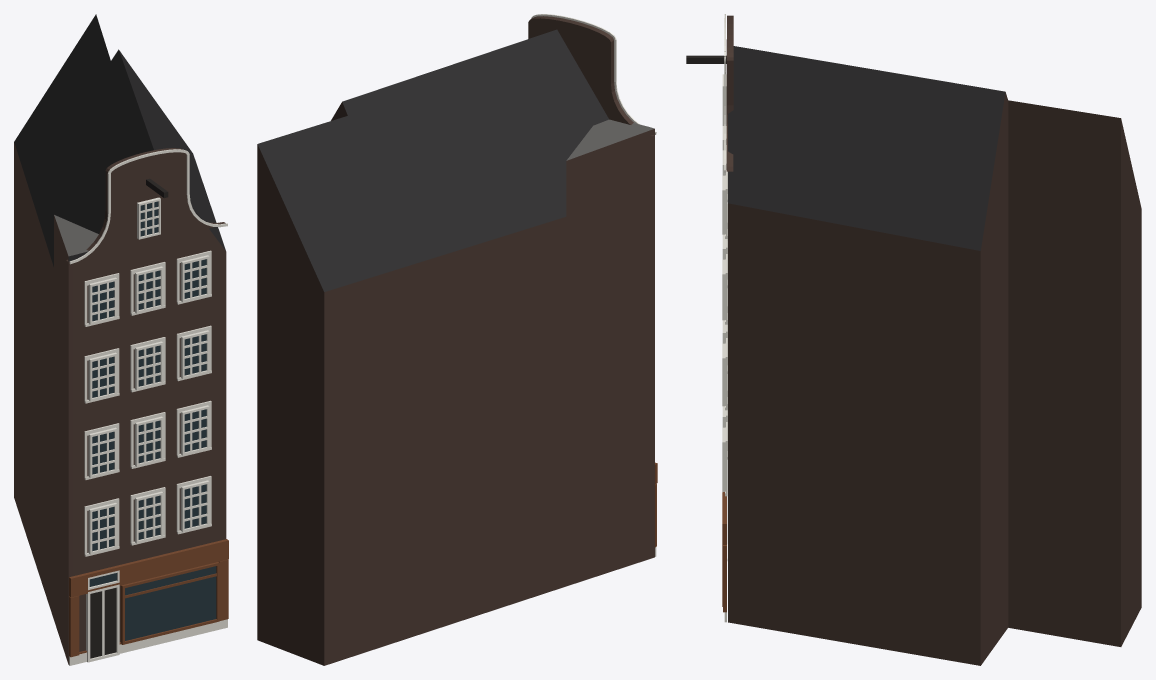
3 renders of one model, left to right at view 1: azimuth 30°, elevation 25°; view 2: azimuth 150°, elevation 25°; view 3: azimuth 270°, elevation 25°, orthographic. The views are drawn at different scales.
Parts seen in each view (by area): view 1: spec-0363100012177935; view 2: spec-0363100012177935; view 3: spec-0363100012177935.
Part boxes in pixels (box(x1,y1,x2,y2)): spec-0363100012177935: box(14, 14, 228, 665); spec-0363100012177935: box(257, 14, 657, 665); spec-0363100012177935: box(686, 14, 1141, 665).
Size of the model in its own units: 8.16 by 16.2 by 12.12.
